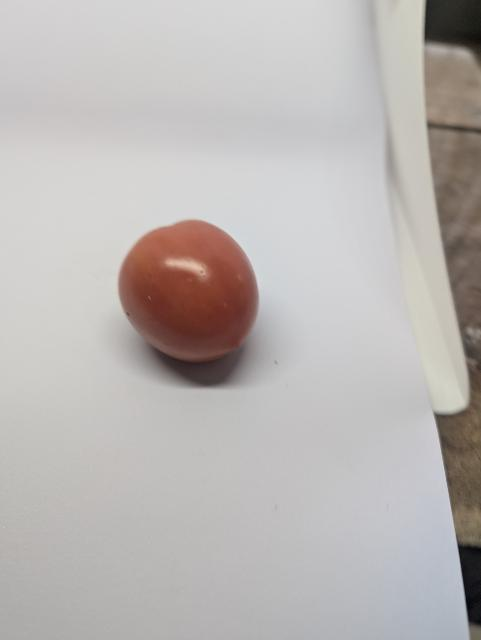red: (104, 202, 289, 374)
